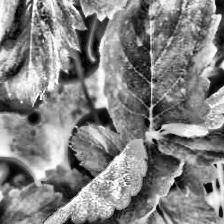Powdery Mildew Leaf: (31, 139, 185, 224), (157, 46, 224, 166)
